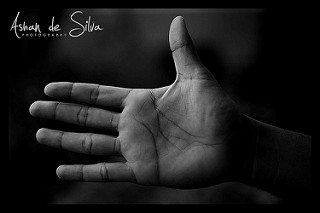palm: (122, 87, 237, 184)
